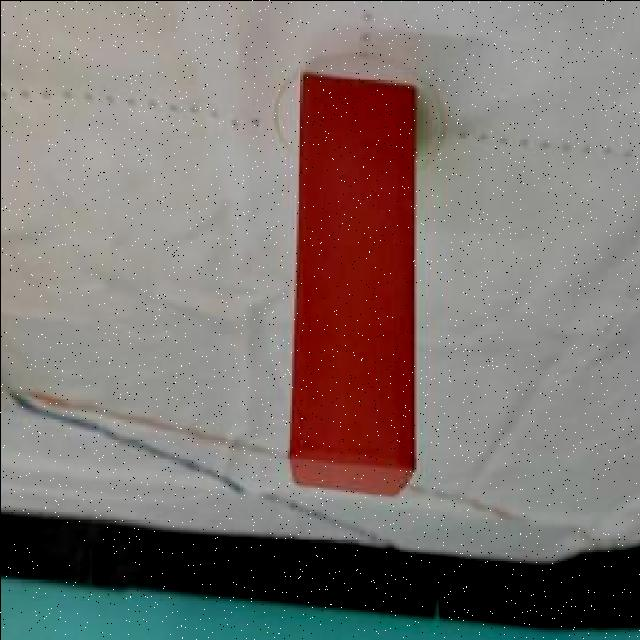redbox: (284, 71, 418, 500)
